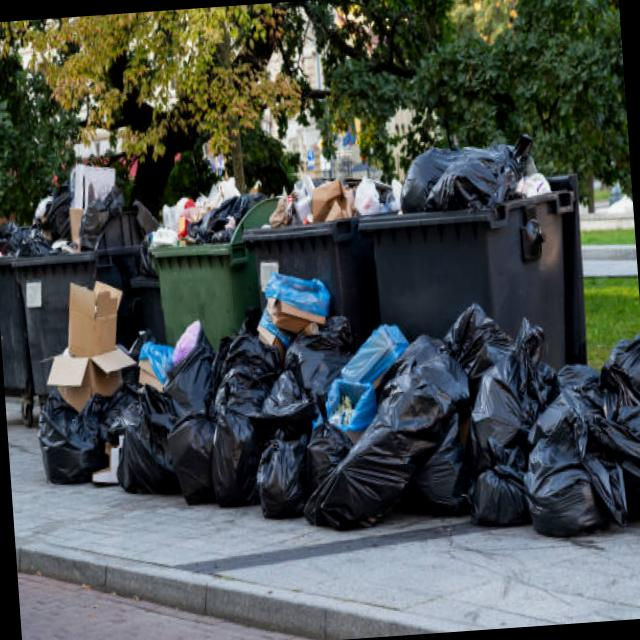garbage: (0, 104, 639, 572)
